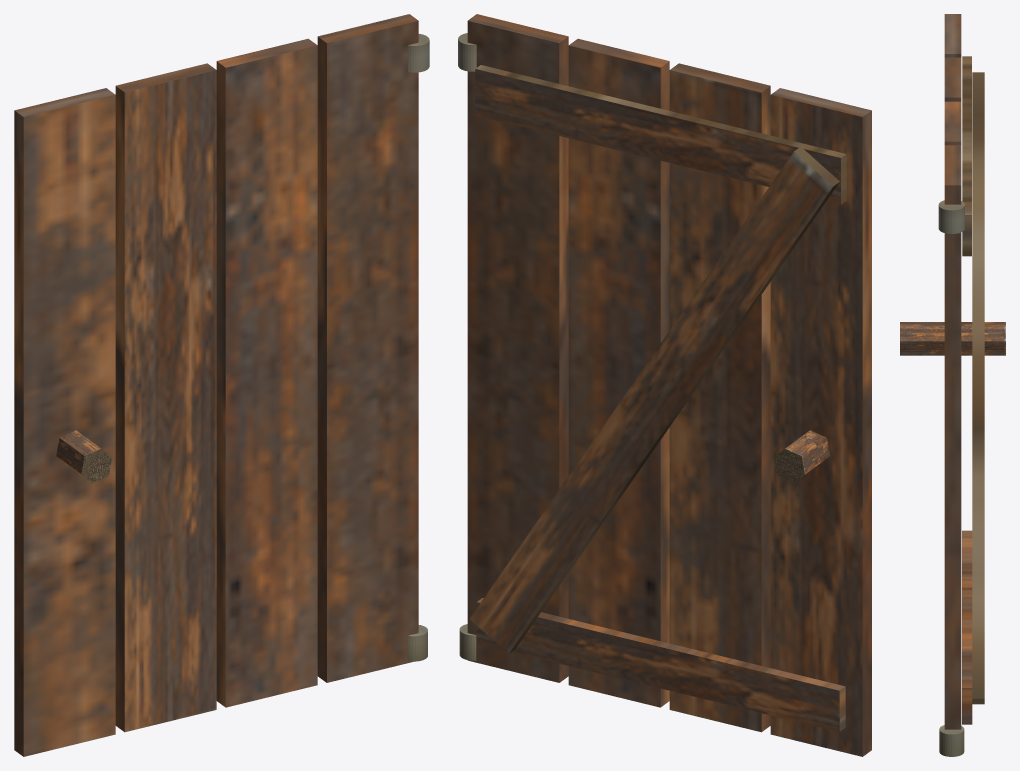
File: structure-door.fbx
The picture shows the model from 3 angles, left to right: view 1: azimuth 30°, elevation 25°; view 2: azimuth 150°, elevation 25°; view 3: azimuth 270°, elevation 25°; orthographic projection. The views are drawn at different scales.
Visible parts, largest first — view 1: Door; view 2: Door; view 3: Door.
Boxes of the visible parts, x1,y1,x2,y2 form: Door: (14, 14, 429, 756); Door: (458, 14, 871, 756); Door: (900, 14, 1005, 756).
Bounding box in the file's own units: 149 × 224 × 37.74.
